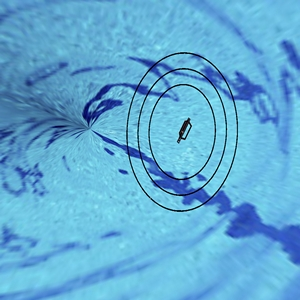circle: (117, 36, 245, 218)
submarine: (170, 109, 197, 150)
